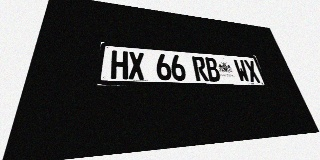6: (169, 55, 187, 81), (155, 53, 172, 80)
B: (204, 57, 222, 82)
H: (110, 50, 128, 79)
R: (191, 56, 209, 81)
W: (233, 59, 251, 82)
X: (128, 51, 145, 80), (243, 60, 261, 83)
